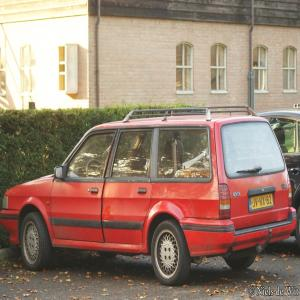Vehicle-registration-plate: (250, 194, 274, 214)
